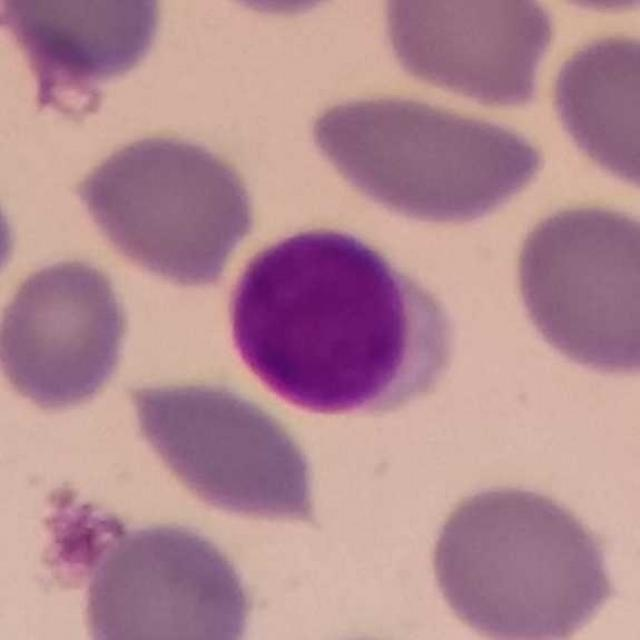Lymphocyte: (229, 218, 457, 421)
Platelets: (32, 490, 130, 594)
RBC: (301, 85, 552, 229), (423, 475, 622, 640), (70, 125, 261, 289), (123, 373, 326, 527), (506, 196, 640, 383), (74, 515, 260, 640), (0, 252, 137, 418), (375, 0, 561, 112), (544, 24, 640, 200), (0, 0, 171, 89), (180, 0, 375, 22), (512, 0, 639, 19)
